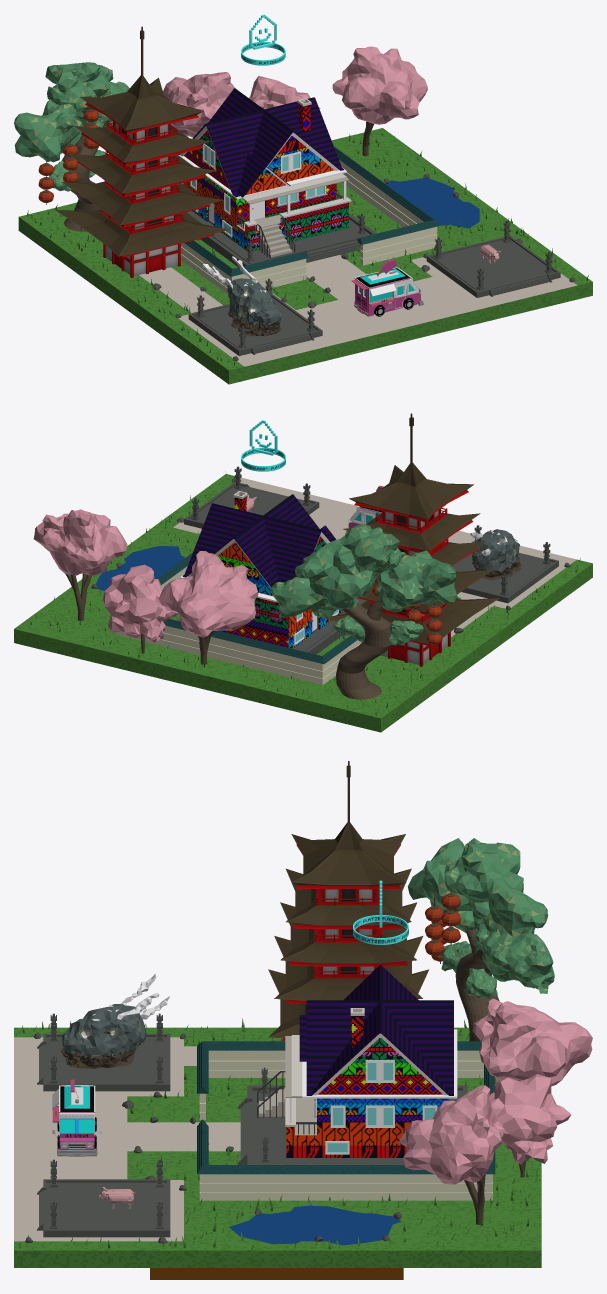
The picture shows the model from 3 angles, top to bottom: view 1: azimuth 30°, elevation 25°; view 2: azimuth 150°, elevation 25°; view 3: azimuth 270°, elevation 25°; orthographic projection. The views are drawn at different scales.
Parts seen in each view (by area): view 1: Cube.005, Cube.966, OBJRANDOM_METEORITE, VEHICLES_ICE_CREAM_TRUCK, TYPE_PREMIUM; view 2: Cube.005, Cube.966, OBJRANDOM_METEORITE, TYPE_PREMIUM, VEHICLES_ICE_CREAM_TRUCK; view 3: Cube.005, Cube.966, OBJRANDOM_METEORITE, UNDERGROUND_ART_PIECE_VAN_GOGH, VEHICLES_ICE_CREAM_TRUCK, TYPE_PREMIUM.
Part boxes in pixels (x1,y1,x2,y2): Cube.005: (14, 26, 592, 384); Cube.966: (177, 88, 351, 258); OBJRANDOM_METEORITE: (203, 256, 281, 336); VEHICLES_ICE_CREAM_TRUCK: (351, 259, 424, 316); TYPE_PREMIUM: (241, 14, 285, 65); Cube.005: (14, 413, 592, 732); Cube.966: (180, 491, 343, 648); OBJRANDOM_METEORITE: (470, 529, 521, 580); TYPE_PREMIUM: (241, 420, 285, 471); VEHICLES_ICE_CREAM_TRUCK: (345, 485, 383, 534); Cube.005: (14, 761, 592, 1267); Cube.966: (257, 965, 457, 1157); OBJRANDOM_METEORITE: (61, 974, 169, 1068); UNDERGROUND_ART_PIECE_VAN_GOGH: (150, 1268, 403, 1279); VEHICLES_ICE_CREAM_TRUCK: (52, 1079, 101, 1156); TYPE_PREMIUM: (353, 880, 408, 944).
Bounding box in the file's own units: 4528 × 2816 × 4389.
55 materials, 11 textured.
